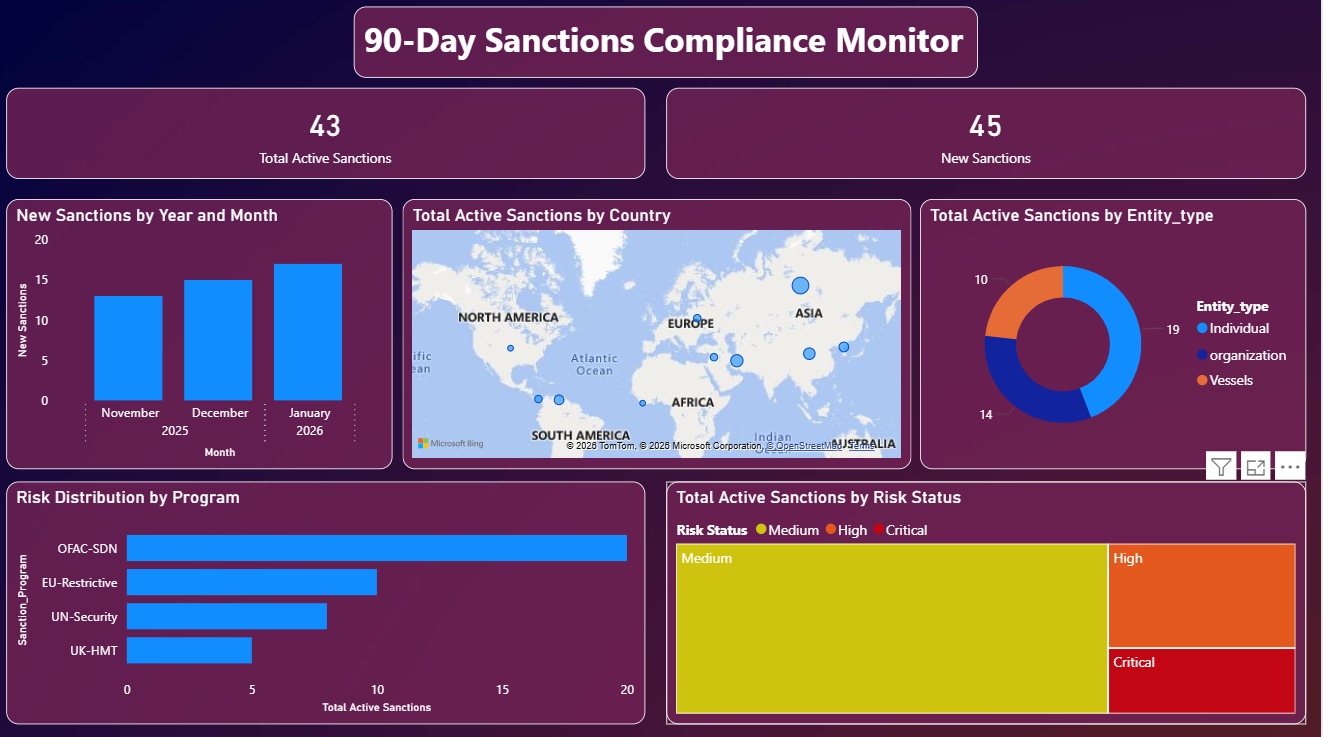

The dashboard page shown, as its layout file describes it:
{"tool":"powerbi","page":{"name":"Page 1","canvas":[1280,720],"ordinal":0},"visuals":[{"type":"card","fields":{"Values":["Master_Sanctions.Total Active Sanctions"]},"box":[10.9,90.5,616.5,88.1],"z":0},{"type":"card","fields":{"Values":["Master_Sanctions.New Sanctions"]},"box":[647.9,90.5,617.7,88.1],"z":1000},{"type":"textbox","box":[346.2,12.1,602,68.8],"z":2000},{"type":"barChart","title":"Risk Distribution by Program","fields":{"Category":["Master_Sanctions.Sanction_Program"],"Y":["Master_Sanctions.Total Active Sanctions"]},"box":[10.9,470.5,616.5,234],"z":3000},{"type":"map","fields":{"Size":["Master_Sanctions.Total Active Sanctions"],"Category":["Master_Sanctions.Country"]},"box":[393.3,197.9,491,260.6],"z":4000},{"type":"clusteredColumnChart","fields":{"Y":["Master_Sanctions.New Sanctions"],"Category":["Calendar.Date.Variation.Date Hierarchy.Year","Calendar.Date.Variation.Date Hierarchy.Month"]},"box":[10.9,197.9,372.8,260.6],"z":5000},{"type":"donutChart","fields":{"Category":["Master_Sanctions.Entity_type"],"Y":["Master_Sanctions.Total Active Sanctions"]},"box":[892.8,197.9,372.8,260.6],"z":6000},{"type":"treemap","fields":{"Values":["Master_Sanctions.Total Active Sanctions"],"Group":["Master_Sanctions.Risk Status"]},"box":[647.9,470.5,617.7,234],"z":7000}]}

Visuals, with their boxes in screenshot pixels (x1, y1, x2, y2), scaled from the page's 1280x720 canvas onto the 1323x737 screenshot:
card - Master_Sanctions.Total Active Sanctions: BBox(11, 93, 648, 183)
card - Master_Sanctions.New Sanctions: BBox(670, 93, 1308, 183)
textbox: BBox(358, 12, 980, 83)
"Risk Distribution by Program" barChart: BBox(11, 482, 648, 721)
map - Master_Sanctions.Total Active Sanctions x Master_Sanctions.Country: BBox(407, 203, 914, 469)
clusteredColumnChart - Master_Sanctions.New Sanctions x Calendar.Date.Variation.Date Hierarchy.Year: BBox(11, 203, 397, 469)
donutChart - Master_Sanctions.Entity_type x Master_Sanctions.Total Active Sanctions: BBox(923, 203, 1308, 469)
treemap - Master_Sanctions.Total Active Sanctions x Master_Sanctions.Risk Status: BBox(670, 482, 1308, 721)
